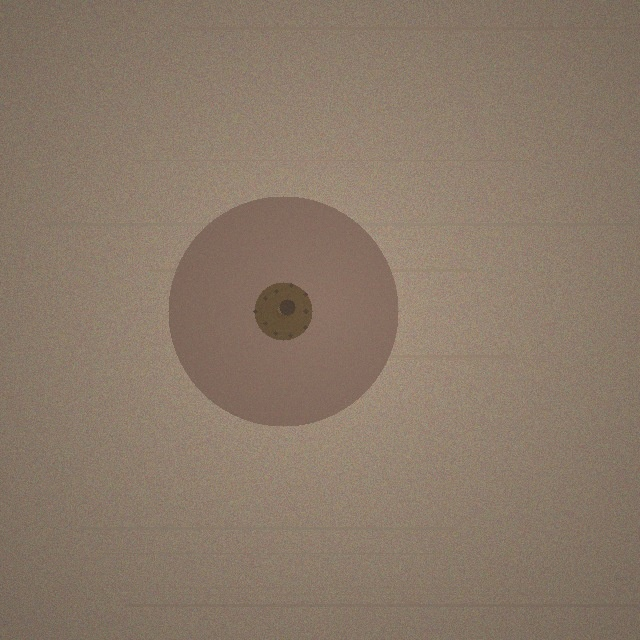cold_weld: (168, 196, 398, 426)
